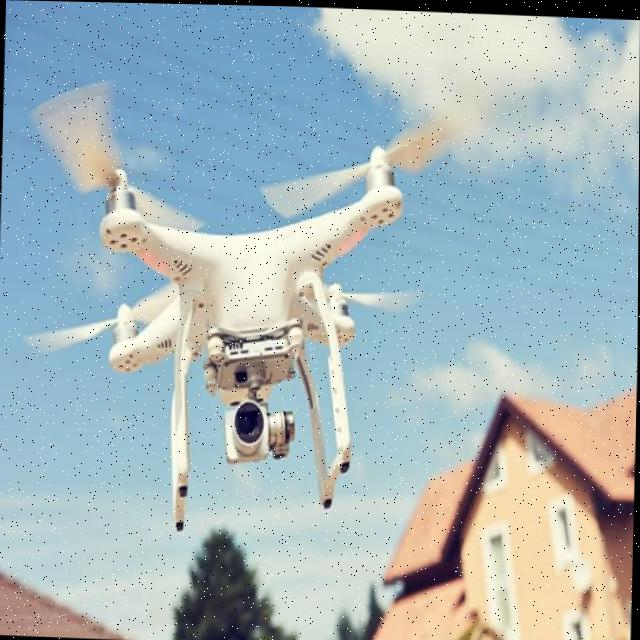drones: (8, 54, 497, 558)
